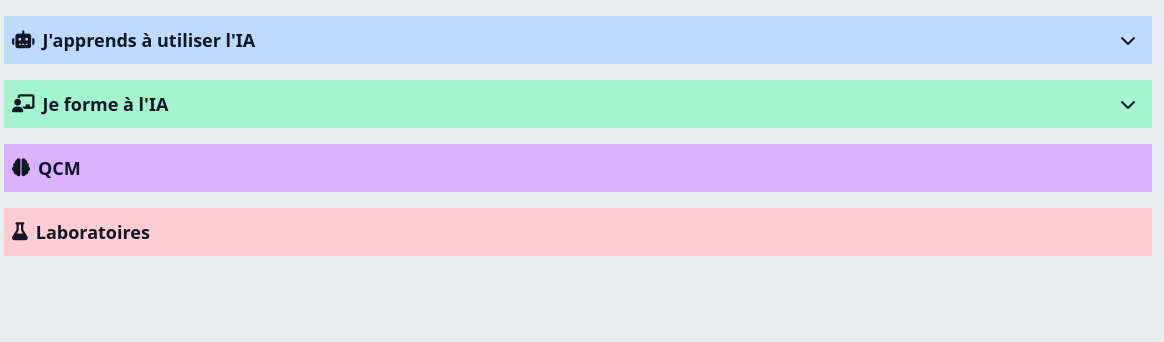
Test: menu mobile et tablette › applique la même logique à « Je forme à l'IA », avec ses propres parcours
Click the button with test id "deplier-former-mobile": (1128, 104) [1104,80,1152,128]
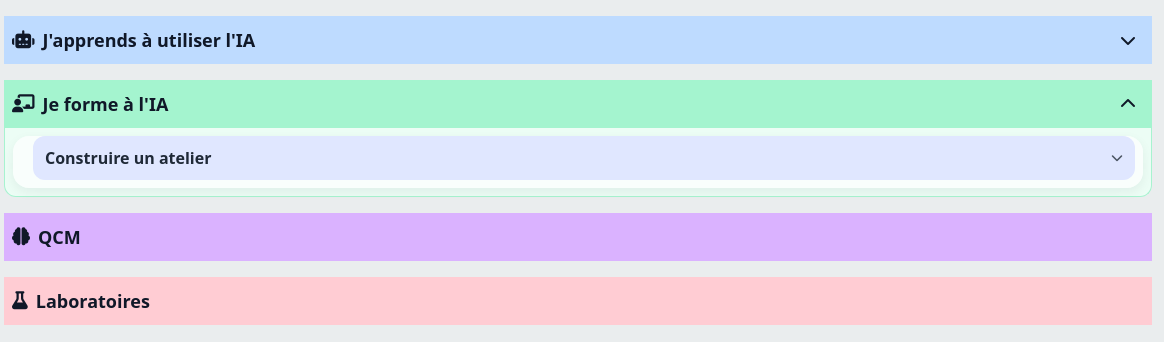
Result: the element showing "Construire un atelier" is shown at [4,128,1152,197]
